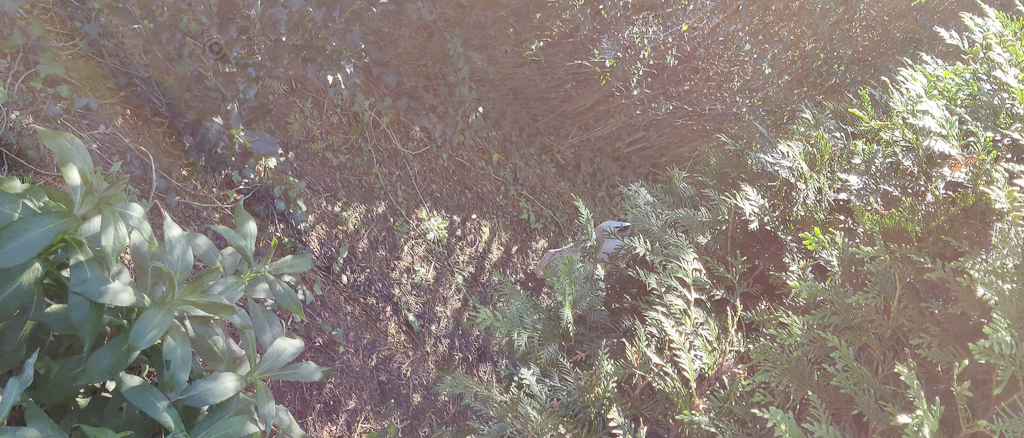Dog: (526, 210, 665, 297)
